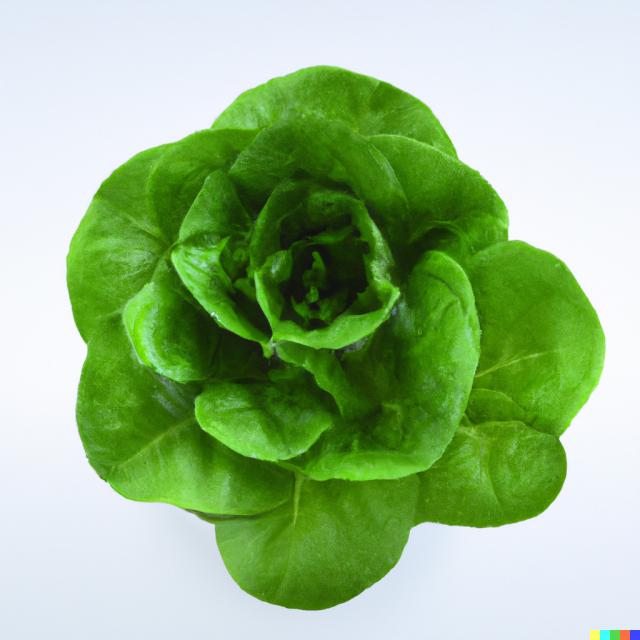FN: (58, 59, 612, 618)
